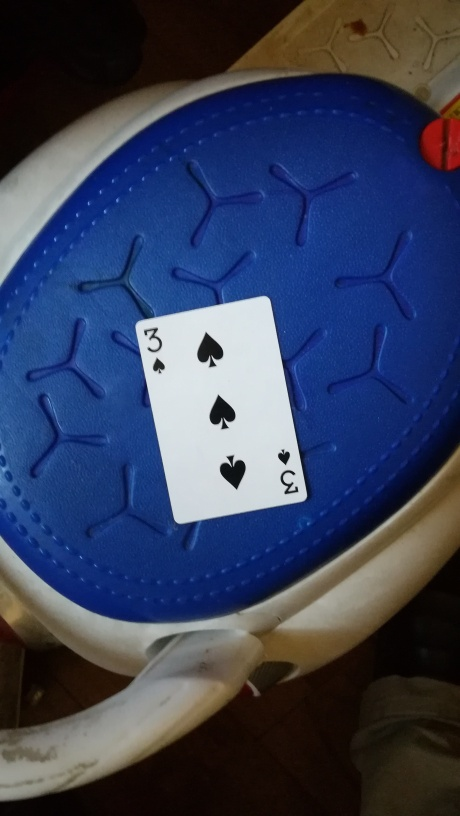ht 3: (130, 294, 315, 525)
